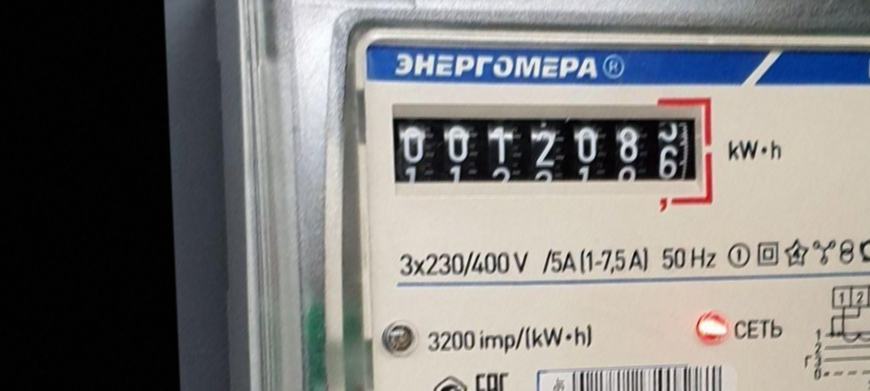0: (443, 121, 473, 164), (400, 121, 426, 164), (574, 124, 599, 164)
1: (488, 122, 512, 164)
2: (531, 127, 558, 167)
6: (654, 142, 679, 179)
8: (616, 123, 640, 164)
screen: (381, 77, 726, 230)
